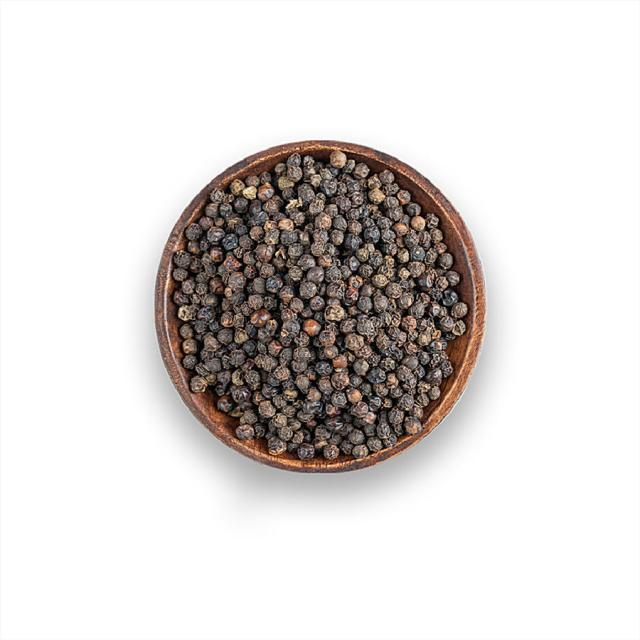Black pepper: (144, 122, 505, 474)
